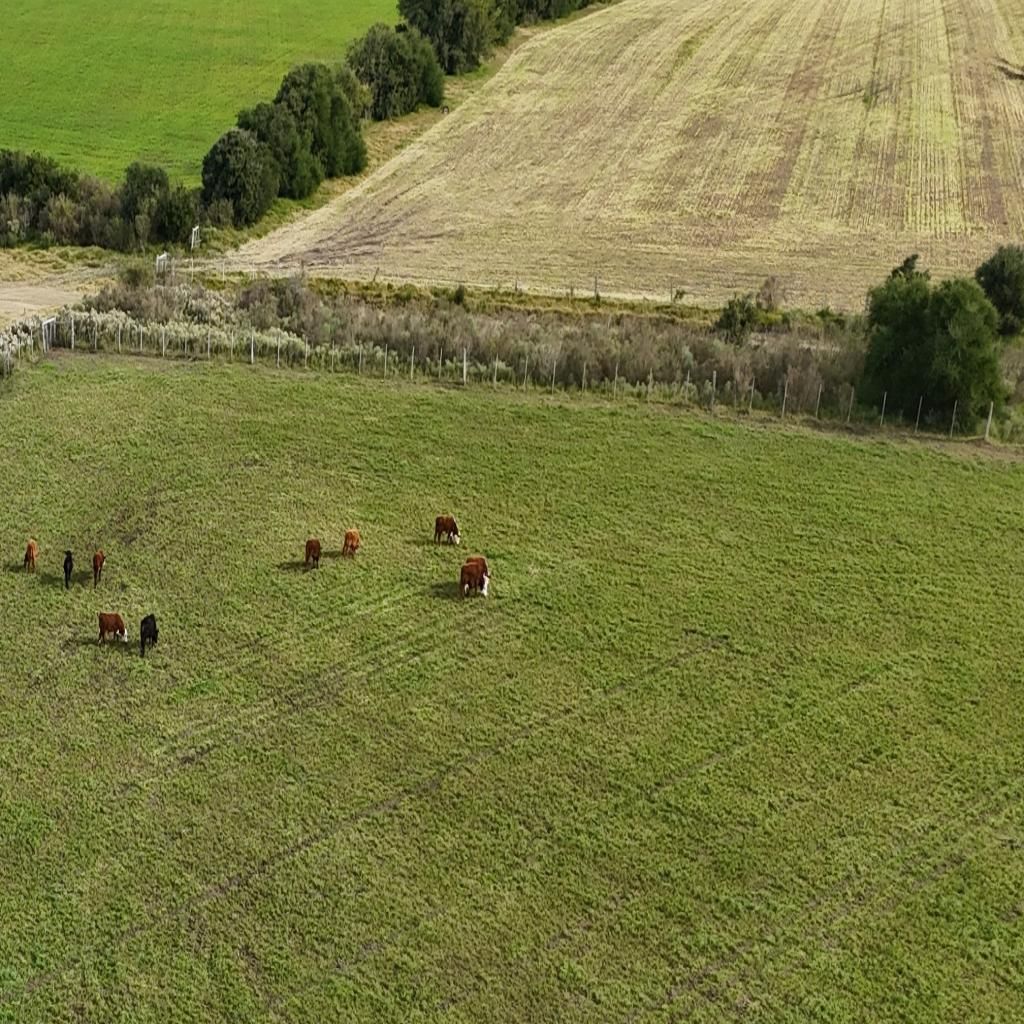cow: (97, 612, 130, 646), (459, 566, 490, 598), (434, 514, 460, 546), (140, 613, 158, 658), (304, 538, 321, 570), (92, 550, 106, 588), (342, 529, 360, 558), (23, 541, 38, 575), (63, 550, 74, 590), (461, 555, 492, 569)
